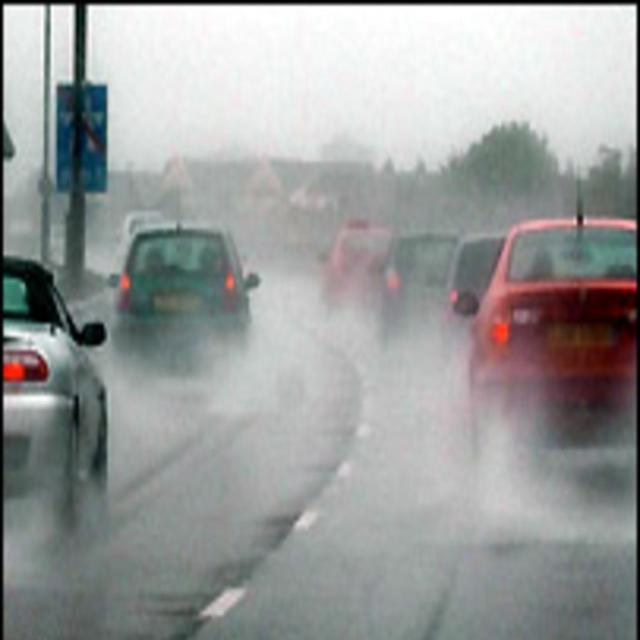Car: (470, 186, 638, 437), (0, 239, 120, 537), (110, 224, 257, 366), (429, 220, 506, 373), (376, 215, 454, 359), (304, 206, 376, 312), (103, 198, 158, 268)
